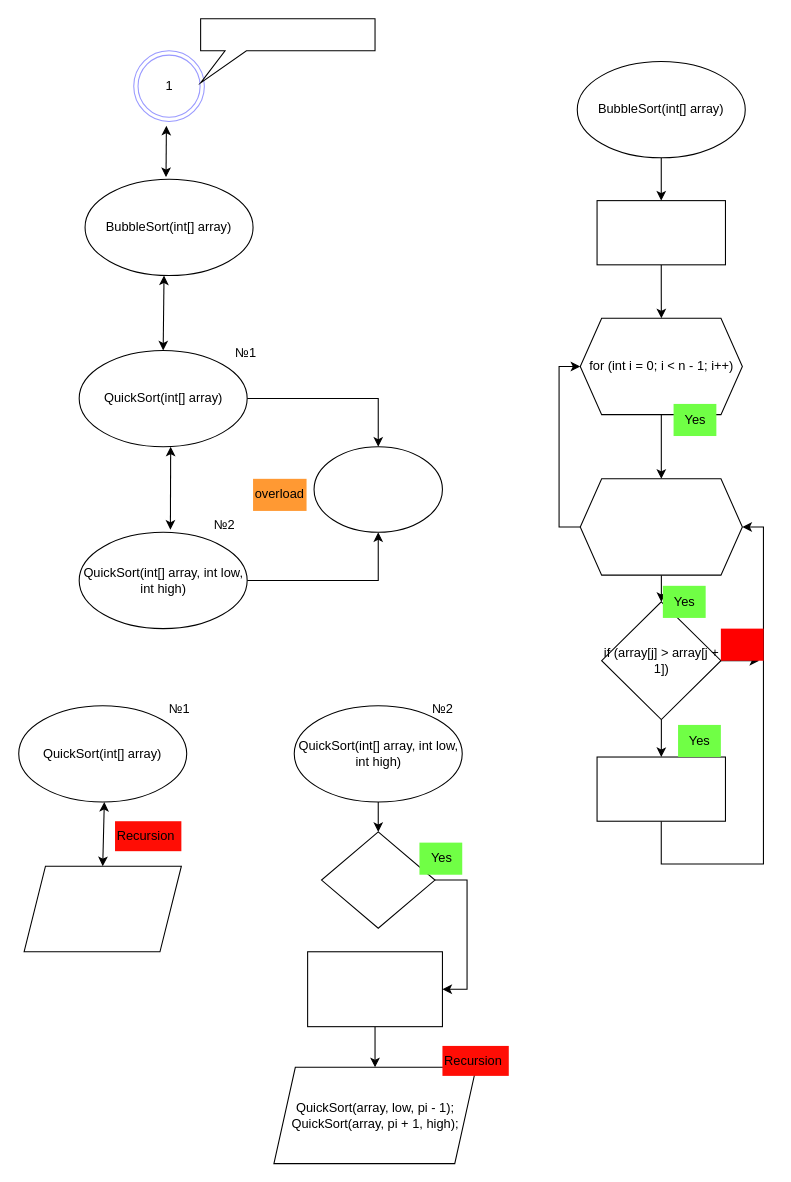
Image size: 791x1182. Some labels were removed from this diagram. The shapes that lost their labels are listed below. From the top down, each one's centre as x and y in pixels, then its label:
At point (287, 50): "Class SortingAlgorithms".
At point (660, 232): "int n = array.Length;".
At point (377, 489): "Partition(int[] array, int low, int high)".
At point (660, 526): "for (int j = 0; j < n - i - 1; j++)".
At point (741, 644): "No".
At point (660, 788): "int temp = array[j]; array[j] = array[j + 1]; array[j + 1] = temp;".
At point (377, 879): "if (low < high)".
At point (102, 908): "QuickSort(array, 0, array.Length - 1);".
At point (374, 989): "int pi = Partition(array, low, high);".
